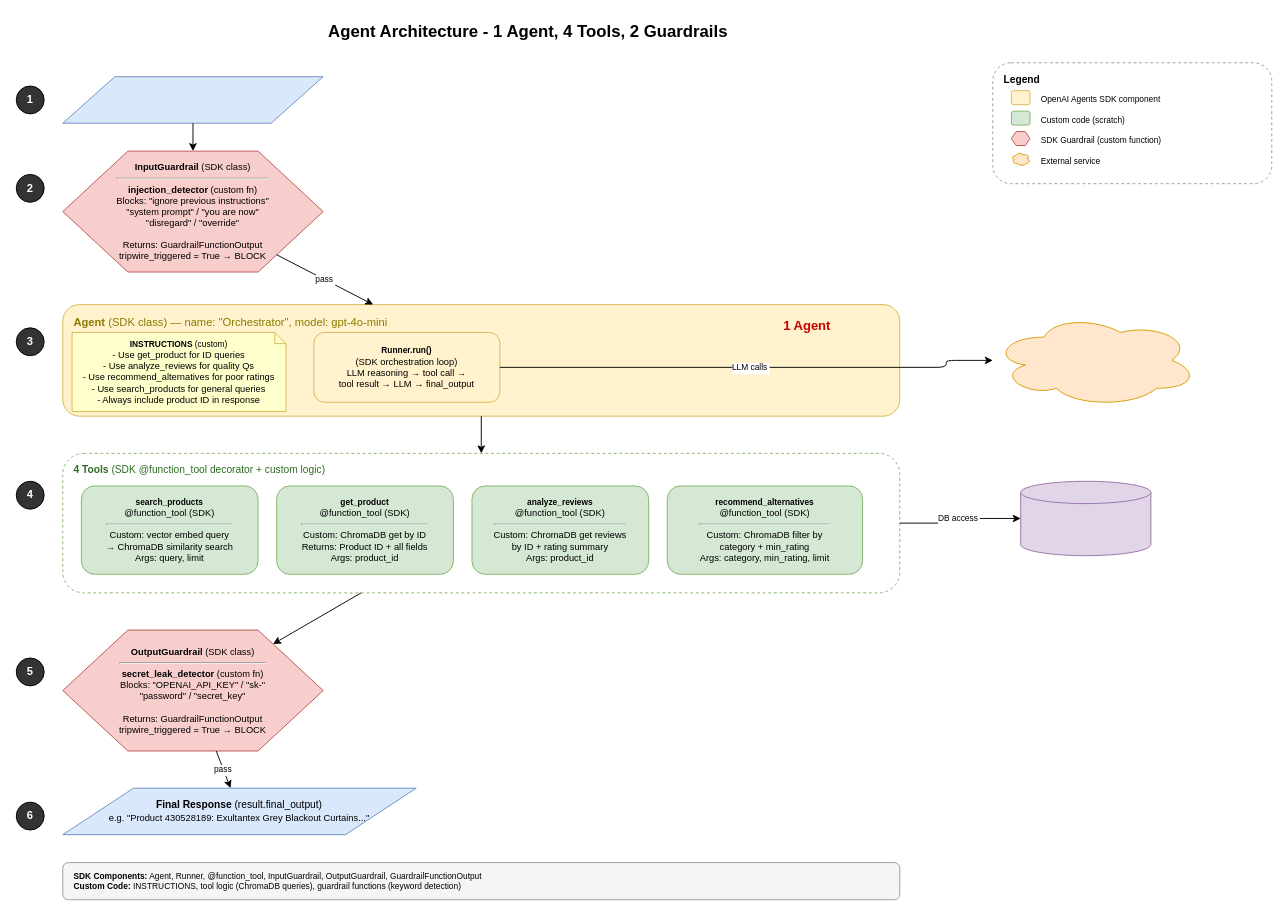
Some shapes in this 1288 by 916 pixel diagram are drawn without their labels. The centre of each missing label's shape, as x and y in pixels:
ChromaDB walmart-products 889 items: the point at 1085,518
OpenAI API gpt-4o-mini text-embedding-3-small: the point at 1094,360
User Query e.g. "Tell me about product 430528189": the point at 192,99
